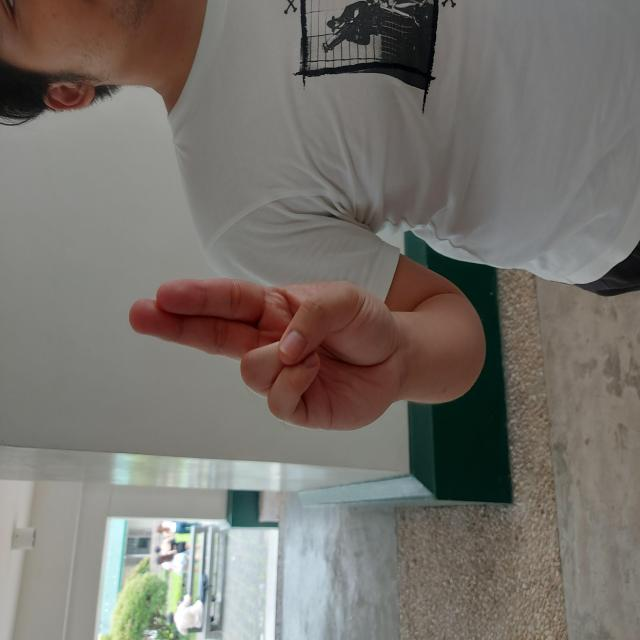U: (207, 126, 367, 407)
